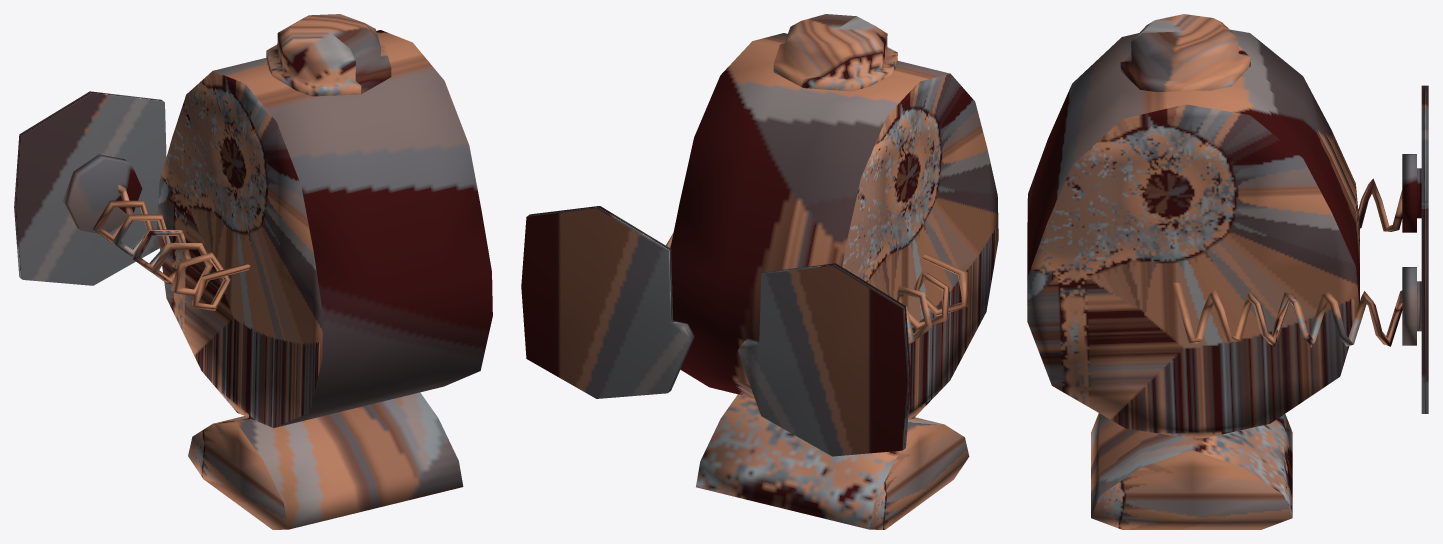
File: E_Pusher_body alone 1.fbx
The picture shows the model from 3 angles, left to right: view 1: azimuth 30°, elevation 25°; view 2: azimuth 150°, elevation 25°; view 3: azimuth 270°, elevation 25°; orthographic projection.
Visible parts, largest first — view 1: E_Pusher_collapsed; view 2: E_Pusher_collapsed; view 3: E_Pusher_collapsed.
Part boxes in pixels (left/top/right/bottom): E_Pusher_collapsed: left=14, top=14, right=492, bottom=529; E_Pusher_collapsed: left=521, top=14, right=998, bottom=529; E_Pusher_collapsed: left=1027, top=14, right=1428, bottom=529.
Bounding box in the file's own units: 6.95 × 7.79 × 6.2.
